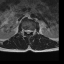CCS_normal: (27, 27, 29, 36)
LFS_stenosis: (31, 28, 33, 33)
LLS_normal: (29, 27, 31, 34)
RFS_normal: (23, 27, 25, 33)
RLS_normal: (25, 28, 27, 34)
